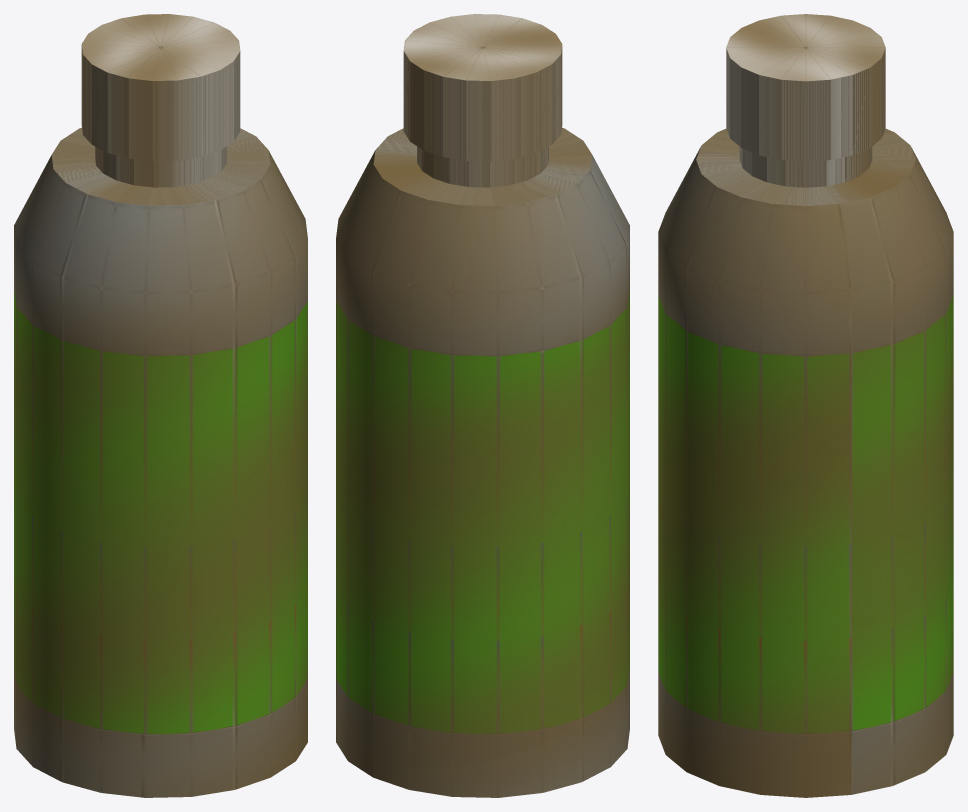
File: Darty_Petbotol_G.fbx
3 renders of one model, left to right at view 1: azimuth 30°, elevation 25°; view 2: azimuth 150°, elevation 25°; view 3: azimuth 270°, elevation 25°, orthographic.
Parts seen in each view (by area): view 1: pCylinder1; view 2: pCylinder1; view 3: pCylinder1.
Boxes of the visible parts, box(x1,y1,x2,y2) form: pCylinder1: box(14, 14, 307, 797); pCylinder1: box(336, 14, 629, 797); pCylinder1: box(658, 14, 953, 797).
Bounding box in the file's own units: 4.47 × 11.48 × 4.47.
Materials: 1 (1 with a texture image).
